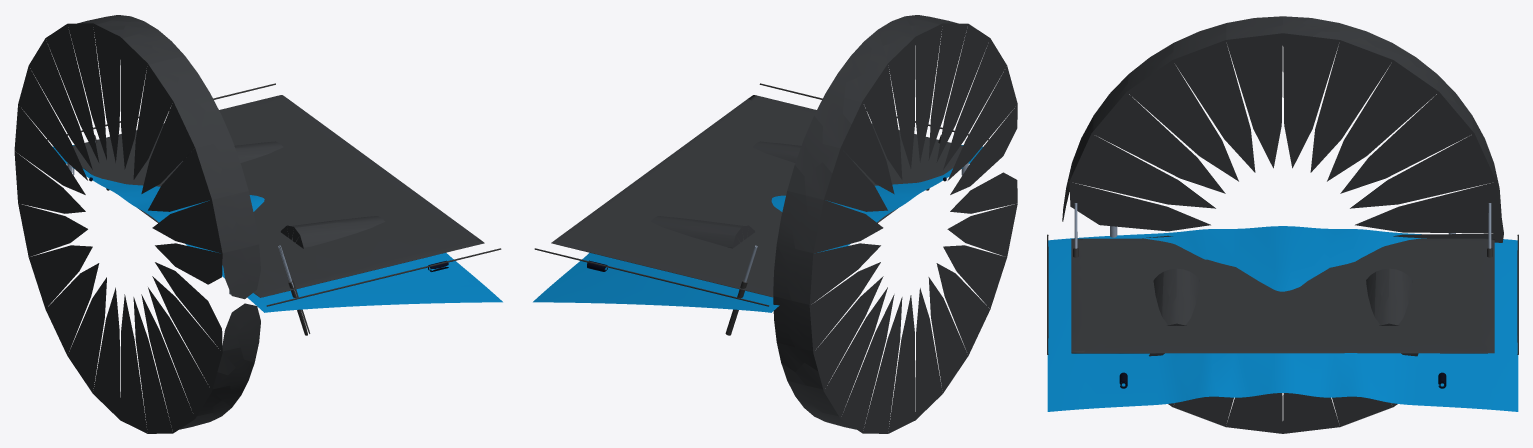
The model's file is hood.glb.
3 renders of one model, left to right at view 1: azimuth 30°, elevation 25°; view 2: azimuth 150°, elevation 25°; view 3: azimuth 270°, elevation 25°, orthographic. The views are drawn at different scales.
Visible parts, largest first — view 1: Block04_ProductionSculptedHood; view 2: Block04_ProductionSculptedHood; view 3: Block04_ProductionSculptedHood.
Boxes of the visible parts, x1=… form: Block04_ProductionSculptedHood: x1=14, y1=15, x2=502, y2=433; Block04_ProductionSculptedHood: x1=533, y1=15, x2=1017, y2=433; Block04_ProductionSculptedHood: x1=1047, y1=16, x2=1518, y2=433.
Size of the model in its own units: 0.86 by 1.17 by 1.24.
